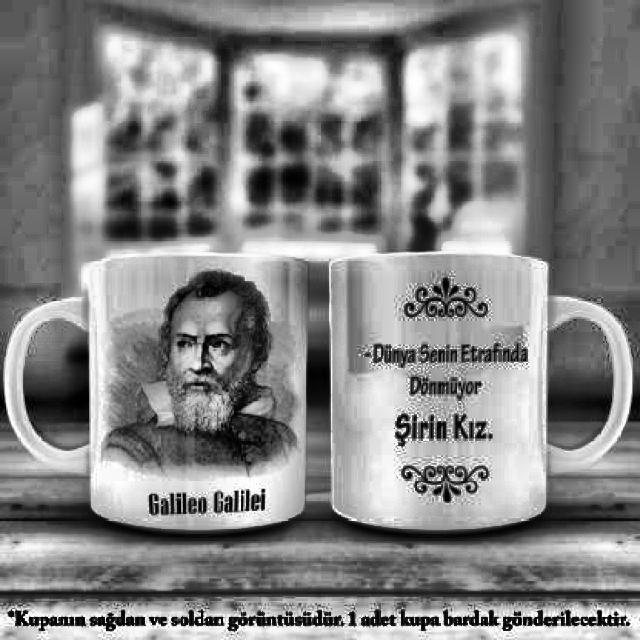Mug: (4, 249, 310, 536), (328, 248, 634, 535)
